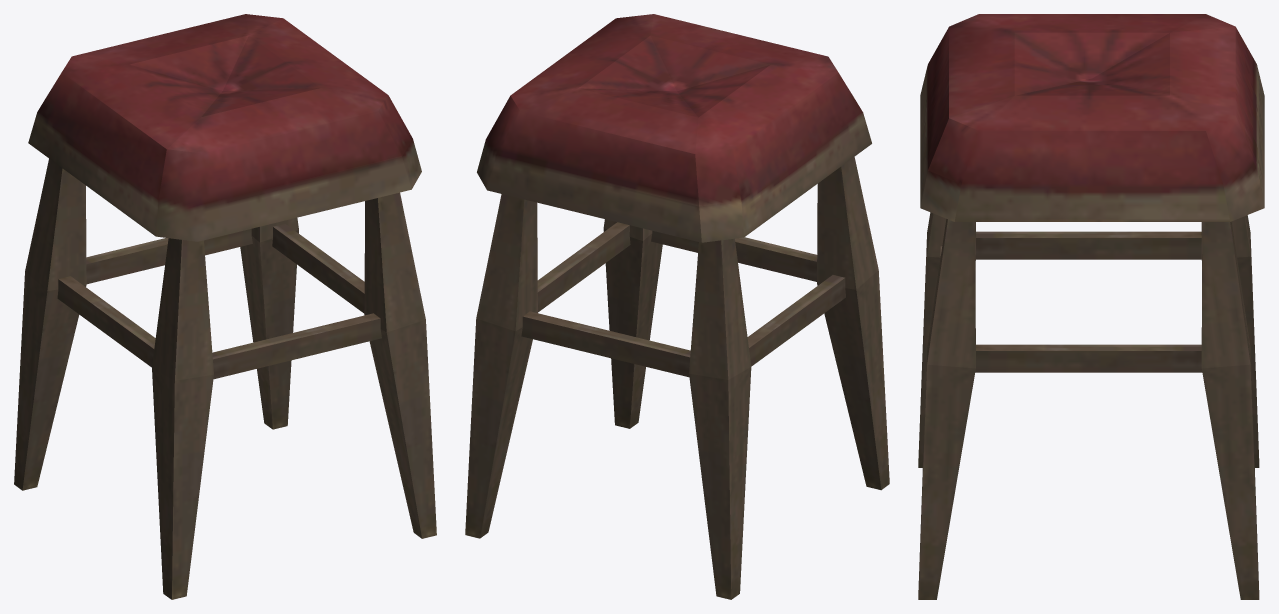
File: bg_lut_lucastle_smallchair01_sm_artree.FBX
3 renders of one model, left to right at view 1: azimuth 30°, elevation 25°; view 2: azimuth 150°, elevation 25°; view 3: azimuth 270°, elevation 25°, orthographic. The views are drawn at different scales.
Visible parts, largest first — view 1: bg_lut_lucastle_smallchair01_sm_artree; view 2: bg_lut_lucastle_smallchair01_sm_artree; view 3: bg_lut_lucastle_smallchair01_sm_artree.
Part boxes in pixels (box(x1,y1,x2,y2)): bg_lut_lucastle_smallchair01_sm_artree: box(14, 14, 436, 599); bg_lut_lucastle_smallchair01_sm_artree: box(465, 14, 889, 599); bg_lut_lucastle_smallchair01_sm_artree: box(918, 14, 1264, 599).
Bounding box in the file's own units: 41.04 × 63.47 × 42.68.
